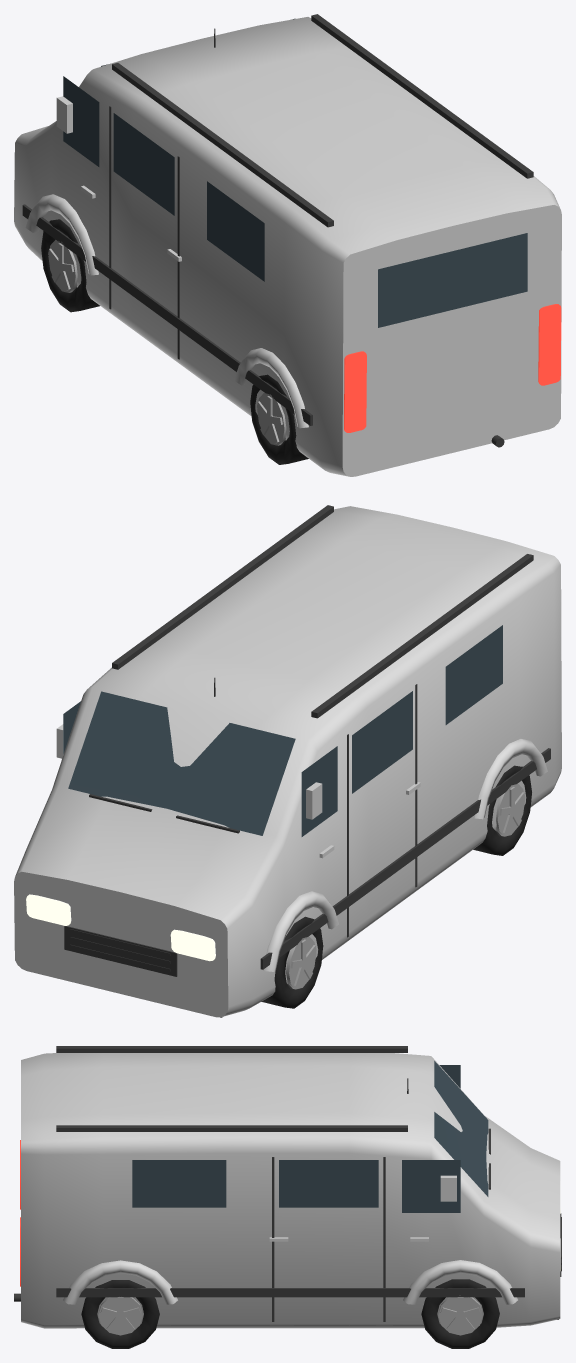
Rendered from dh-van-v2.glb.
3 views of the same model, one above another, from view 1: azimuth 30°, elevation 25°; view 2: azimuth 150°, elevation 25°; view 3: azimuth 270°, elevation 25° (orthographic). The views are drawn at different scales.
Parts seen in each view (by area): view 1: Body, Glass, Trim, Taillights, WheelsTire, WheelsHub; view 2: Body, Glass, Trim, WheelsTire, WheelsHub, Headlights; view 3: Body, Glass, Trim, WheelsTire, WheelsHub.
Part boxes in pixels (bbox=[...]): Body: bbox=[14, 17, 561, 476]; Glass: bbox=[63, 18, 527, 327]; Trim: bbox=[22, 14, 533, 447]; Taillights: bbox=[344, 304, 561, 432]; WheelsTire: bbox=[41, 219, 308, 464]; WheelsHub: bbox=[48, 240, 286, 445]; Body: bbox=[14, 506, 561, 1017]; Glass: bbox=[63, 625, 502, 836]; Trim: bbox=[64, 505, 550, 1017]; WheelsTire: bbox=[261, 765, 531, 1008]; WheelsHub: bbox=[286, 783, 525, 989]; Headlights: bbox=[26, 894, 215, 961]; Body: bbox=[21, 1053, 560, 1328]; Glass: bbox=[132, 1061, 488, 1212]; Trim: bbox=[14, 1046, 561, 1329]; WheelsTire: bbox=[81, 1279, 499, 1348]; WheelsHub: bbox=[98, 1295, 482, 1335].
Bounding box in the file's own units: 2.05 × 2.11 × 4.67.
